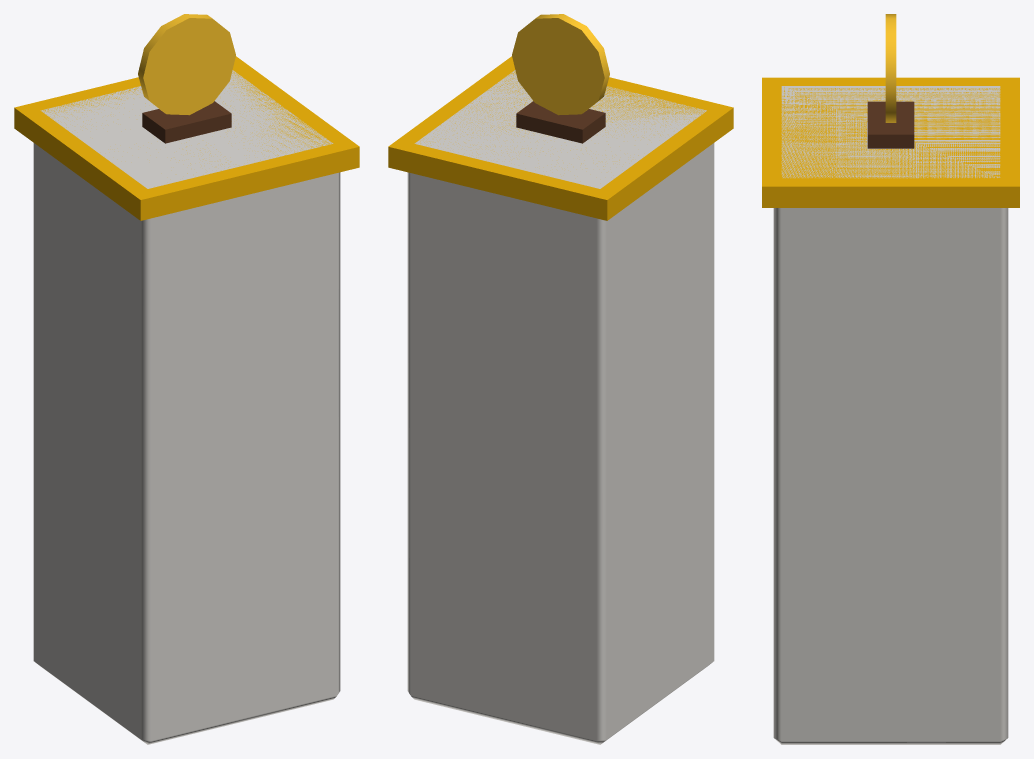
File: station_processing_ausstattung_3_0.glb
3 views of the same model, side by side, from view 1: azimuth 30°, elevation 25°; view 2: azimuth 150°, elevation 25°; view 3: azimuth 270°, elevation 25° (orthographic).
Visible parts, largest first — view 1: station_processing_ausstattung_3_0; view 2: station_processing_ausstattung_3_0; view 3: station_processing_ausstattung_3_0.
Part boxes in pixels (x1=…): station_processing_ausstattung_3_0: x1=14, y1=14, x2=359, y2=744; station_processing_ausstattung_3_0: x1=388, y1=14, x2=733, y2=744; station_processing_ausstattung_3_0: x1=762, y1=14, x2=1019, y2=744.
Bounding box in the file's own units: 0.33 × 0.96 × 0.33.
